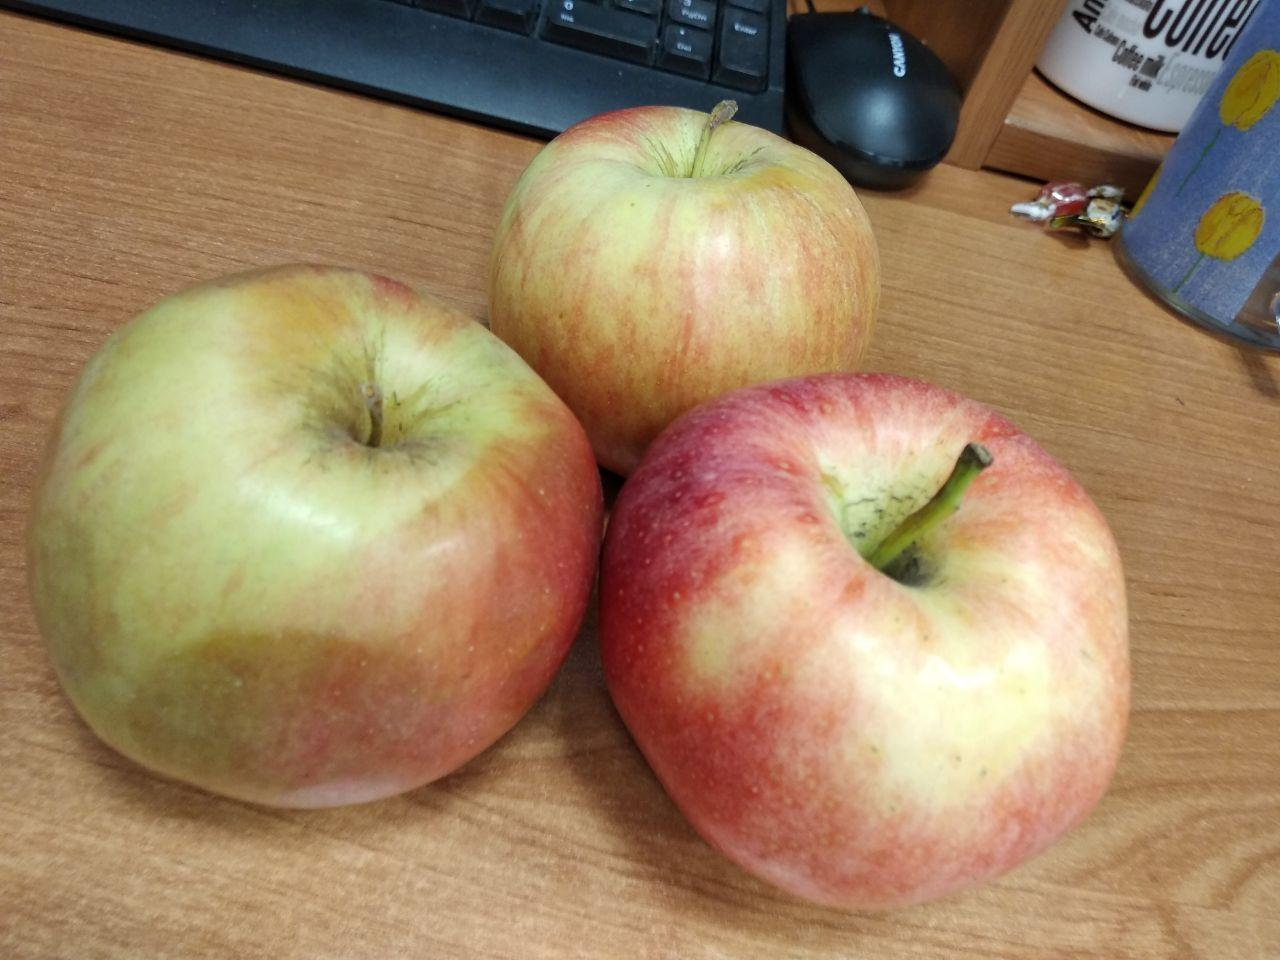Apple: (28, 268, 595, 813), (604, 375, 1133, 895), (471, 114, 884, 431)
